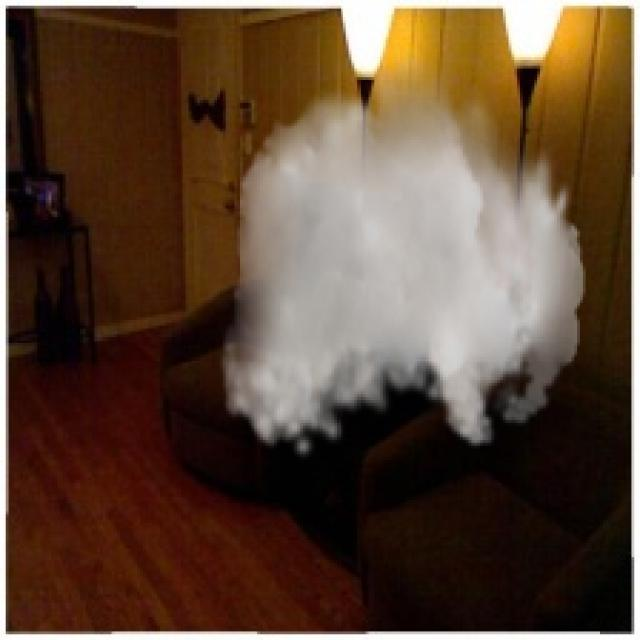Smoke: (220, 37, 586, 463)
